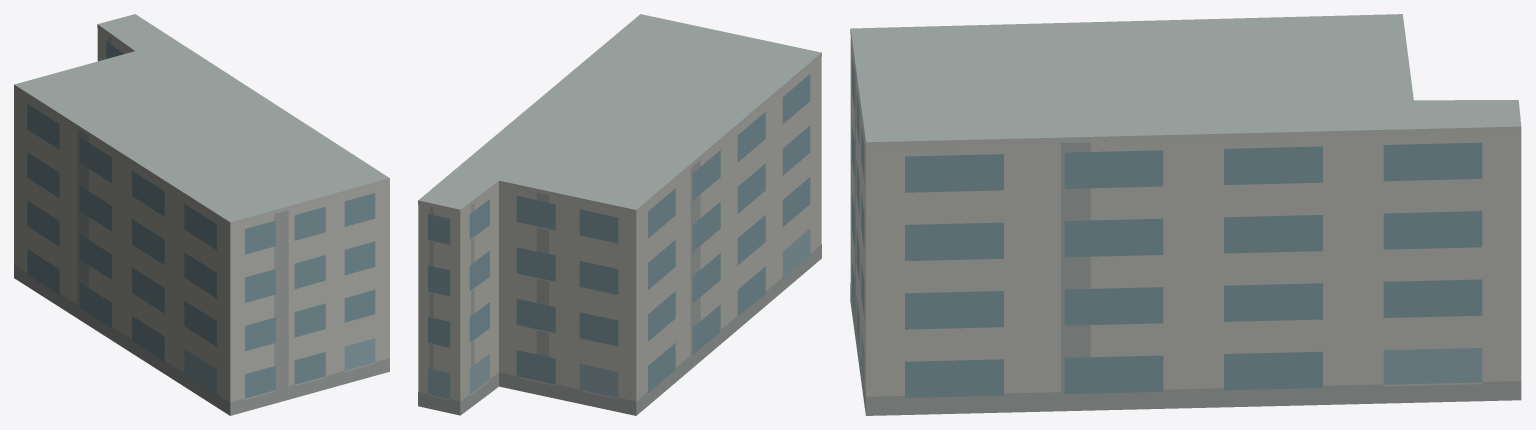
File: survey-upis-32558176.glb
3 renders of one model, left to right at view 1: azimuth 30°, elevation 25°; view 2: azimuth 150°, elevation 25°; view 3: azimuth 270°, elevation 25°, orthographic. The views are drawn at different scales.
Visible parts, largest first — view 1: survey-upis-32558176.tmp; view 2: survey-upis-32558176.tmp; view 3: survey-upis-32558176.tmp.
Part boxes in pixels (left/top/right/bottom): survey-upis-32558176.tmp: left=14, top=14, right=389, bottom=415; survey-upis-32558176.tmp: left=418, top=14, right=821, bottom=415; survey-upis-32558176.tmp: left=850, top=14, right=1521, bottom=415.
Bounding box in the file's own units: 12.27 × 12.2 × 27.12.
